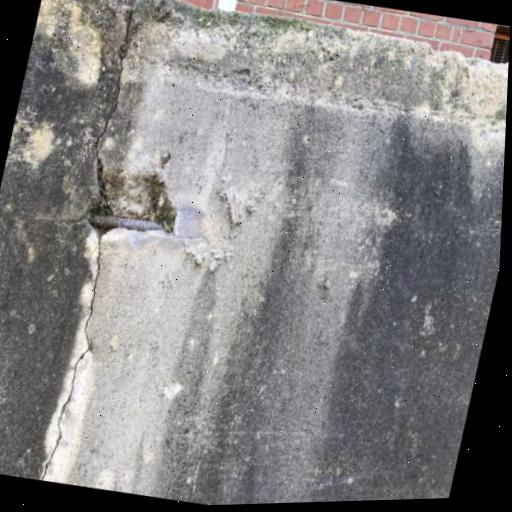exposed_rebar: (89, 214, 164, 232)
spalling: (89, 162, 176, 231)
